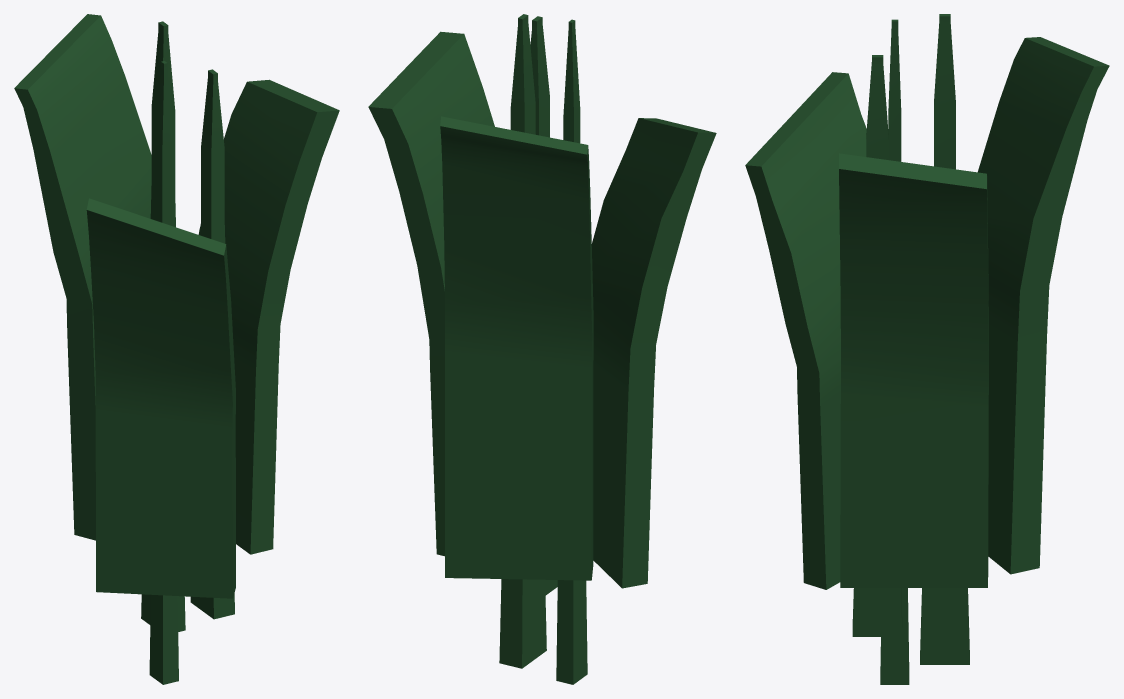
File: CorruptedGrass2.fbx
3 views of the same model, side by side, from view 1: azimuth 30°, elevation 25°; view 2: azimuth 150°, elevation 25°; view 3: azimuth 270°, elevation 25° (orthographic). The views are drawn at different scales.
Visible parts, largest first — view 1: pCube13; view 2: pCube13; view 3: pCube13.
Boxes of the visible parts, box(x1,y1,x2,y2) form: pCube13: box(14, 14, 339, 684); pCube13: box(368, 14, 716, 684); pCube13: box(745, 14, 1109, 684).
Size of the model in its own units: 215 by 506 by 247.
